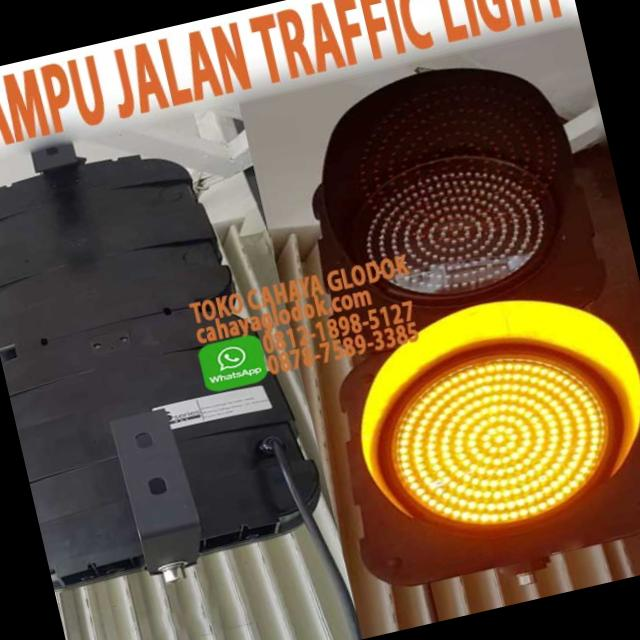yellow-lights: (370, 330, 630, 550)
